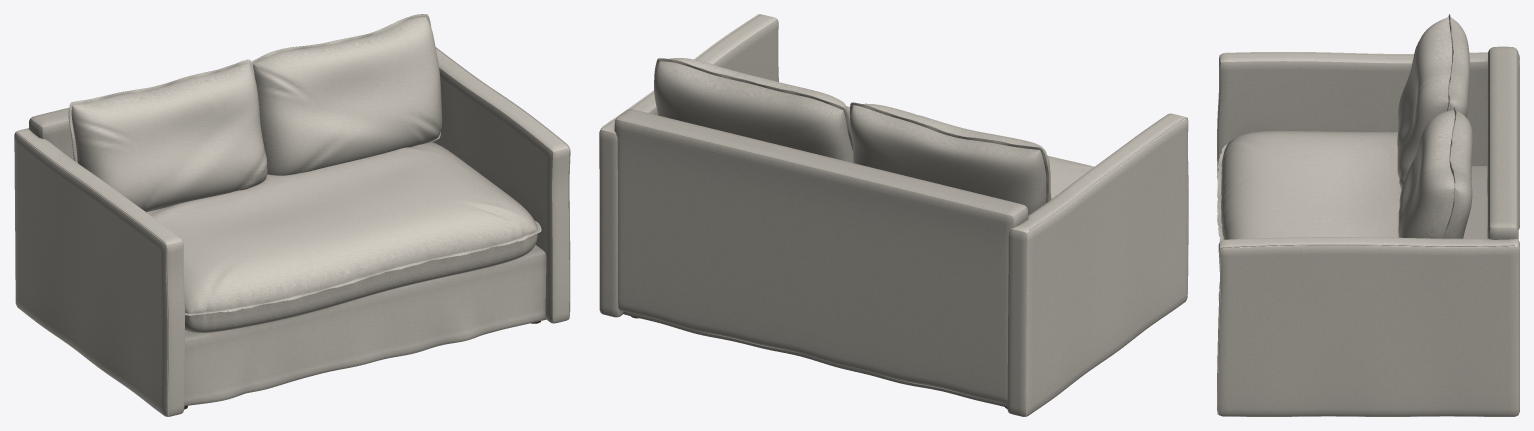
File: sofa.glb
3 views of the same model, side by side, from view 1: azimuth 30°, elevation 25°; view 2: azimuth 150°, elevation 25°; view 3: azimuth 270°, elevation 25° (orthographic). The views are drawn at different scales.
Parts seen in each view (by area): view 1: Face panel (×3), Slipcovered arm (×2), Front apron, Underside panel, Folded French seam (×3), Back rail, Slipcover return seam (×2); view 2: Back rail, Slipcovered arm (×2), Underside panel (×2), Face panel (×3), Folded French seam (×2), Front apron; view 3: Slipcovered arm (×2), Face panel (×3), Back rail, Underside panel (×2), Front apron, Slipcover return seam, Folded French seam.
Boxes of the visible parts, bbox=[...] form: Face panel (×3): bbox=[71, 17, 537, 313]; Slipcovered arm (×2): bbox=[14, 48, 569, 416]; Front apron: bbox=[184, 245, 546, 406]; Underside panel: bbox=[185, 233, 537, 332]; Folded French seam (×3): bbox=[69, 14, 541, 315]; Back rail: bbox=[29, 107, 73, 160]; Slipcover return seam (×2): bbox=[16, 47, 570, 416]; Back rail: bbox=[614, 109, 1028, 404]; Slipcovered arm (×2): bbox=[599, 14, 1188, 416]; Underside panel (×2): bbox=[654, 61, 1046, 215]; Face panel (×3): bbox=[669, 58, 1094, 200]; Folded French seam (×2): bbox=[654, 58, 1048, 202]; Front apron: bbox=[623, 311, 1007, 407]; Slipcovered arm (×2): bbox=[1217, 52, 1519, 416]; Face panel (×3): bbox=[1221, 17, 1454, 239]; Back rail: bbox=[1487, 46, 1518, 239]; Underside panel (×2): bbox=[1444, 17, 1472, 238]; Front apron: bbox=[1463, 166, 1487, 238]; Slipcover return seam: bbox=[1217, 244, 1514, 414]; Folded French seam: bbox=[1217, 143, 1227, 300].
Bounding box in the file's own units: 1.57 × 0.8445 × 1.03.
6 materials, 5 textured.
